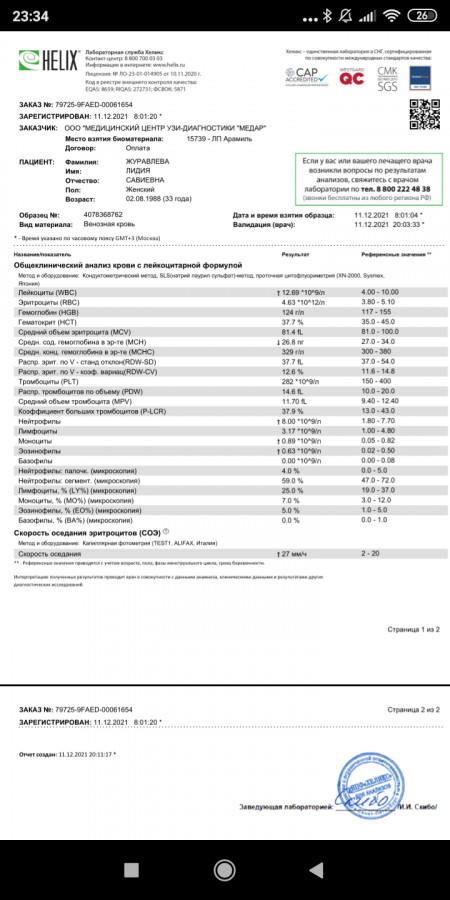column: (17, 288, 166, 524), (281, 288, 326, 524), (360, 288, 399, 524), (17, 549, 82, 559), (361, 251, 426, 258), (13, 251, 72, 258), (281, 549, 308, 559), (281, 251, 309, 258), (361, 549, 380, 559)
